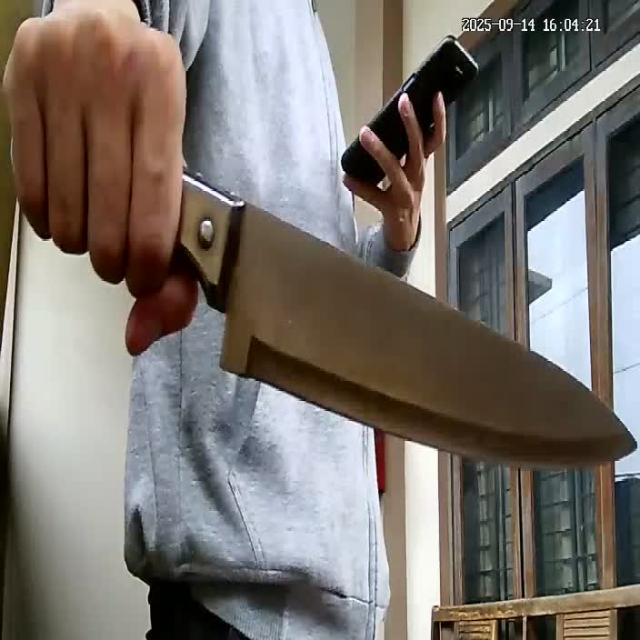senjata_tajam: (186, 172, 638, 474)
